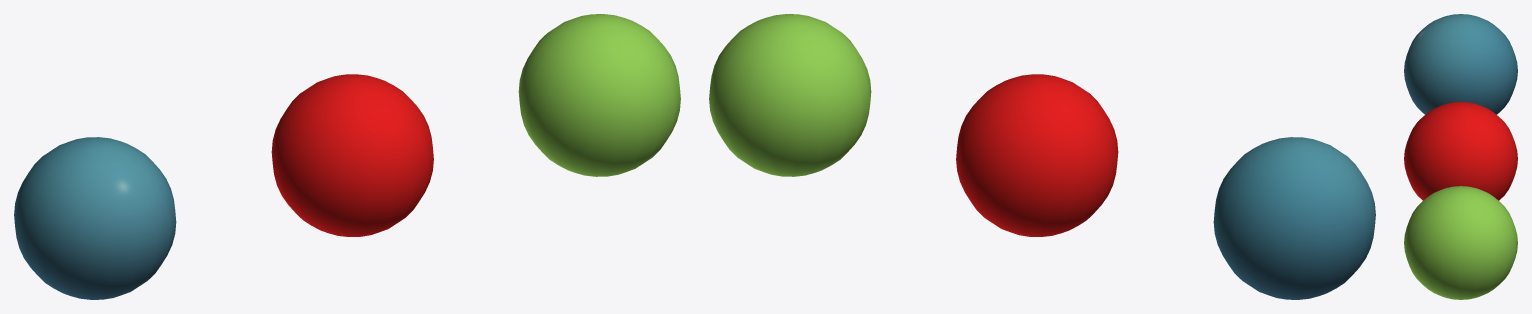
Rendered from more_balls.fbx.
3 views of the same model, side by side, from view 1: azimuth 30°, elevation 25°; view 2: azimuth 150°, elevation 25°; view 3: azimuth 270°, elevation 25° (orthographic). The views are drawn at different scales.
Visible parts, largest first — view 1: pSphere3, pSphere1, pSphere2; view 2: pSphere3, pSphere1, pSphere2; view 3: pSphere3, pSphere1, pSphere2.
Part boxes in pixels (bbox=[...]): pSphere3: bbox=[518, 14, 680, 176]; pSphere1: bbox=[14, 137, 176, 299]; pSphere2: bbox=[271, 74, 433, 236]; pSphere3: bbox=[709, 14, 871, 176]; pSphere1: bbox=[1213, 137, 1375, 299]; pSphere2: bbox=[956, 74, 1118, 236]; pSphere3: bbox=[1404, 186, 1517, 299]; pSphere1: bbox=[1404, 14, 1517, 114]; pSphere2: bbox=[1404, 102, 1517, 200].
Size of the model in its own units: 38.41 by 8.4 by 8.4.
Materials: 1 (1 with a texture image).
